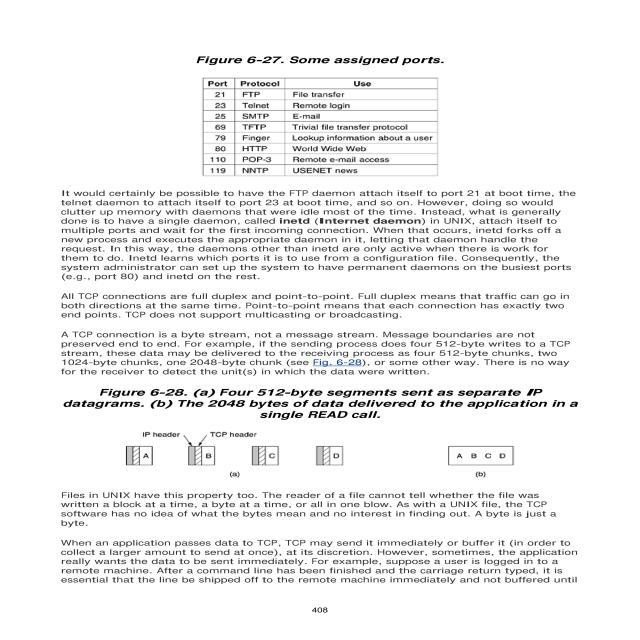diagram: (28, 384, 617, 477)
